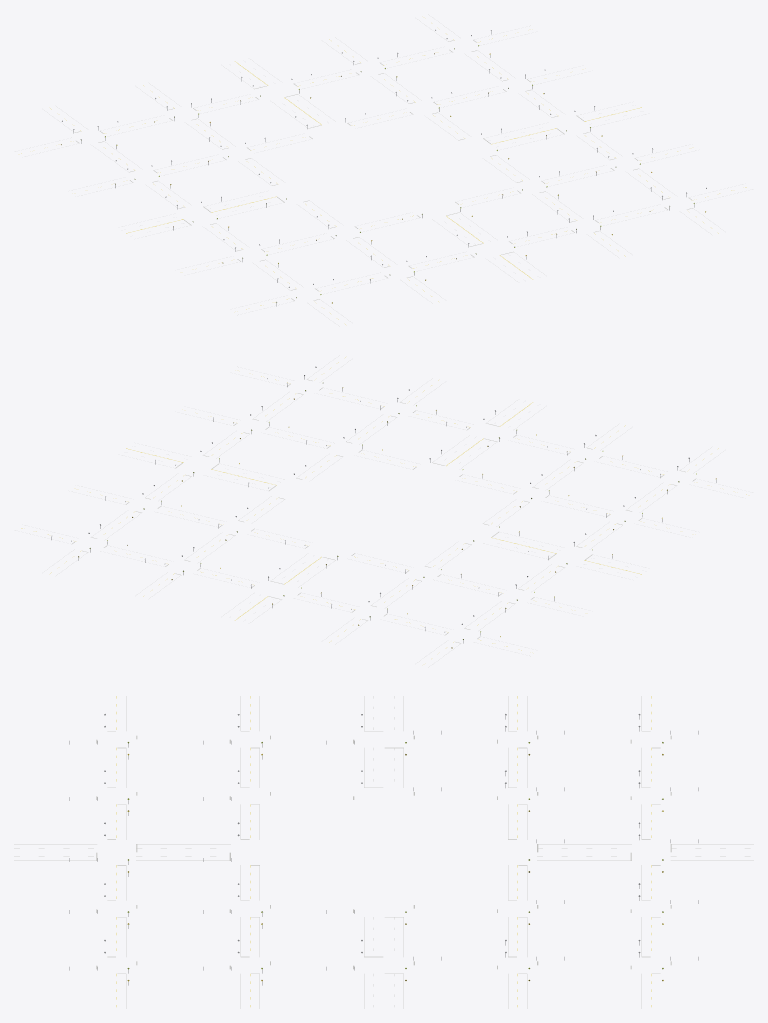
Rendered from world-roadmarks.glb.
The picture shows the model from 3 angles, top to bottom: view 1: azimuth 30°, elevation 25°; view 2: azimuth 150°, elevation 25°; view 3: azimuth 270°, elevation 25°; orthographic projection. The views are drawn at different scales.
Visible parts, largest first — view 1: mark_white; view 2: mark_white; view 3: mark_white.
Boxes of the visible parts, x1,y1,x2,y2 form: mark_white: (15, 14, 752, 326); mark_white: (15, 355, 752, 667); mark_white: (14, 696, 753, 1008).
Bounding box in the file's own units: 360 × 3.21 × 360.
